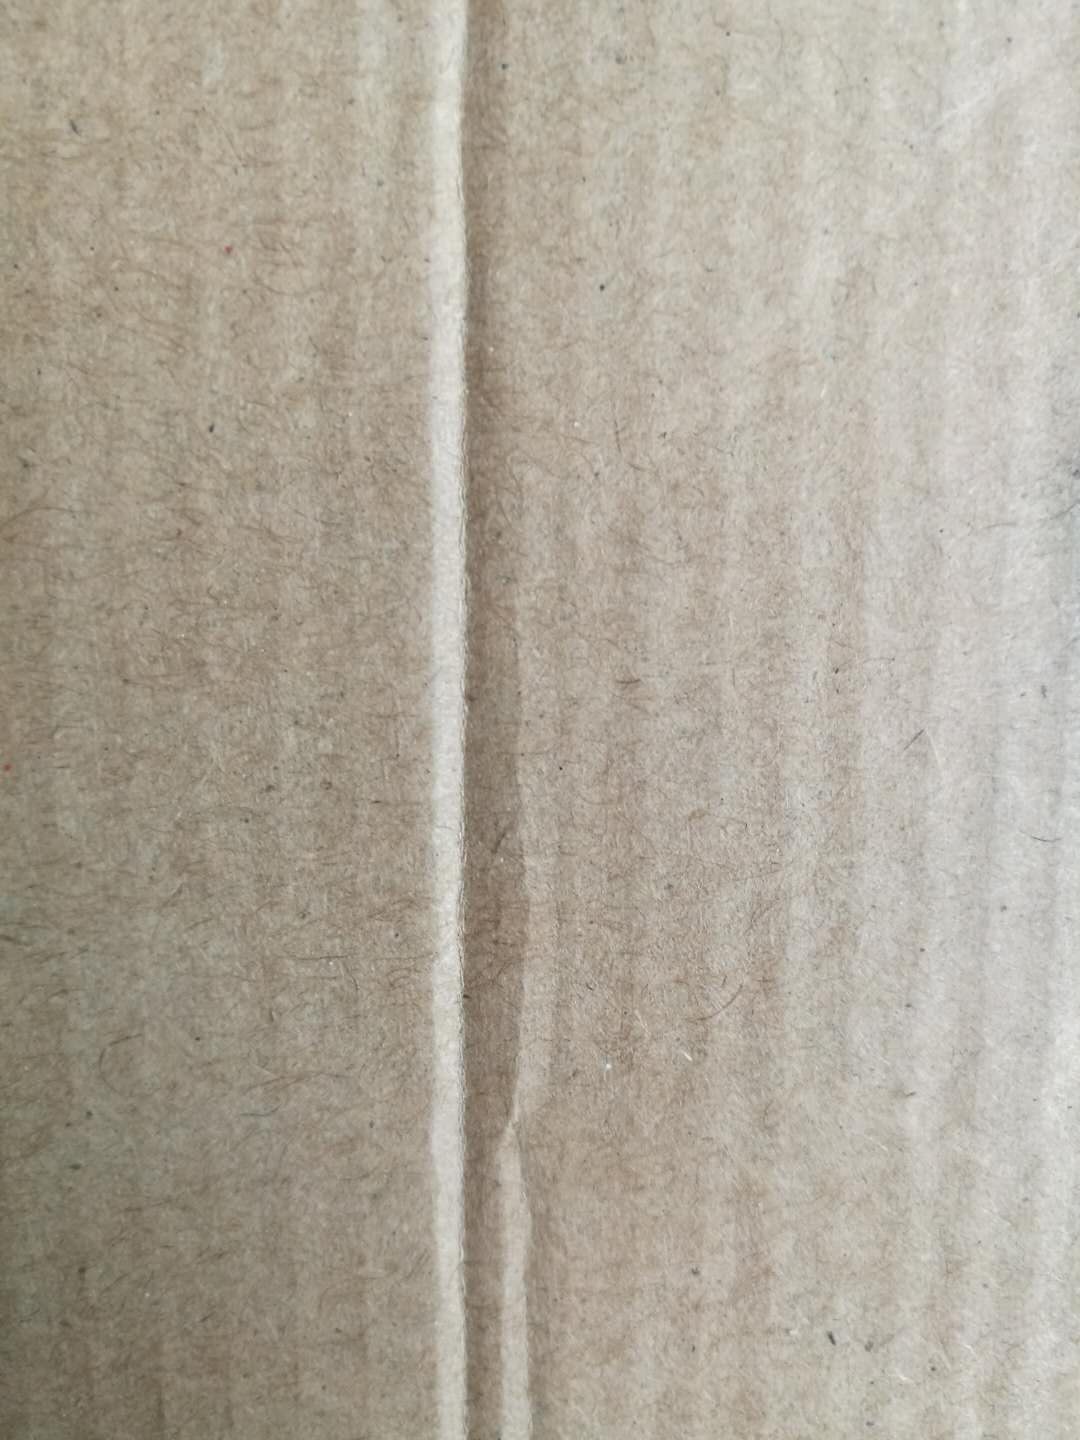defect: (395, 5, 594, 1439)
